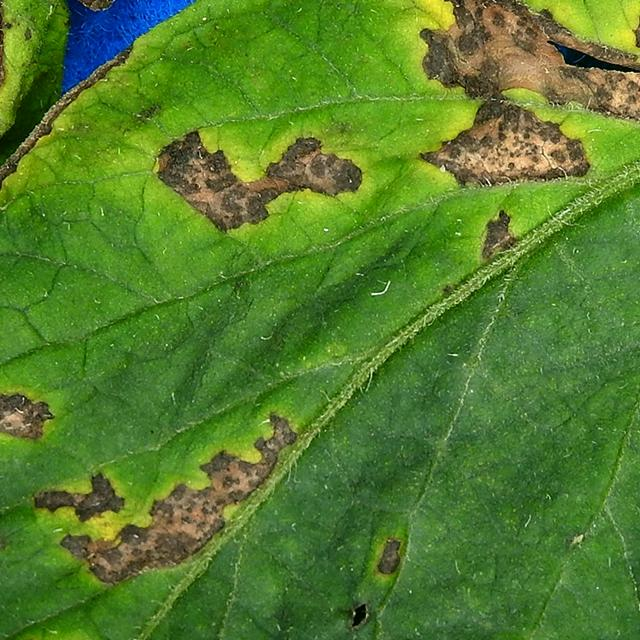Tomato leaf bacterial spot: (0, 0, 640, 640), (0, 0, 221, 577)
